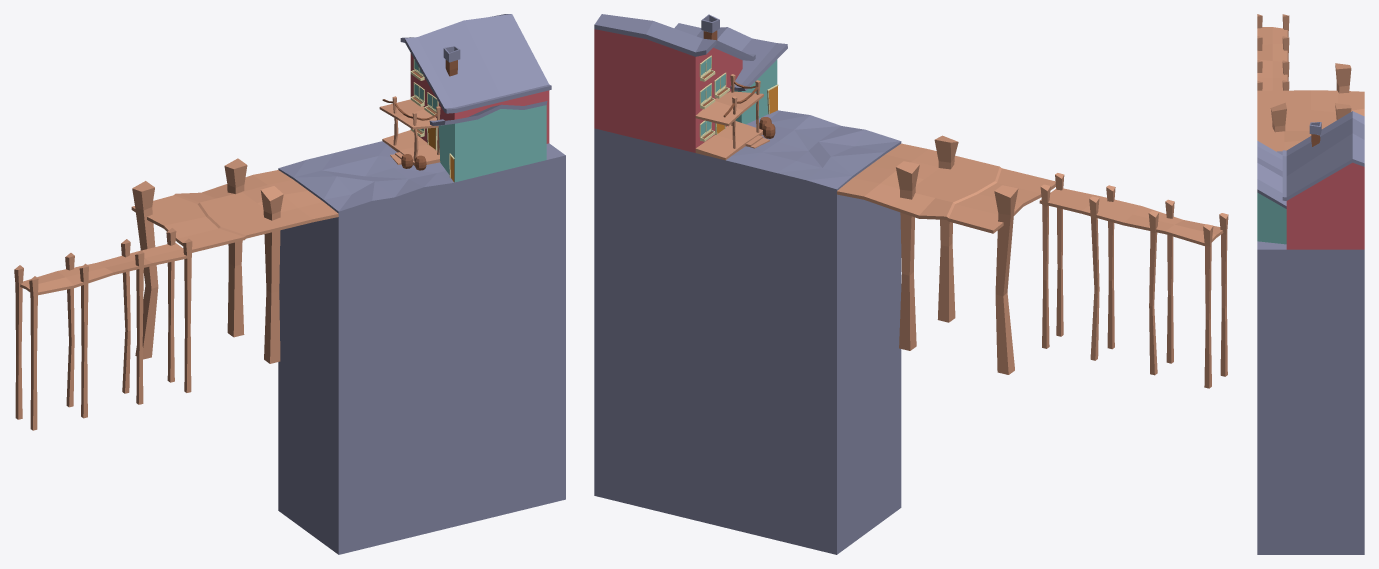
The model's file is LeftSideHarbour.fbx.
3 renders of one model, left to right at view 1: azimuth 30°, elevation 25°; view 2: azimuth 150°, elevation 25°; view 3: azimuth 270°, elevation 25°, orthographic. The views are drawn at different scales.
Parts seen in each view (by area): view 1: Harbour, HarbourWood, polySurface3, House_01, pCube12, pCube2; view 2: Harbour, HarbourWood, polySurface3, House_01, pCube12, pCube2; view 3: Harbour, polySurface3, HarbourWood, House_01.
Part boxes in pixels (x1=…): Harbour: x1=278, y1=141, x2=565, y2=554; HarbourWood: x1=14, y1=158, x2=338, y2=430; polySurface3: x1=400, y1=14, x2=551, y2=147; House_01: x1=429, y1=101, x2=547, y2=182; pCube12: x1=382, y1=130, x2=440, y2=165; pCube2: x1=379, y1=99, x2=438, y2=129; Harbour: x1=594, y1=110, x2=901, y2=554; HarbourWood: x1=837, y1=135, x2=1228, y2=388; polySurface3: x1=594, y1=14, x2=755, y2=152; House_01: x1=674, y1=23, x2=787, y2=124; pCube12: x1=695, y1=121, x2=769, y2=160; pCube2: x1=695, y1=91, x2=763, y2=126; Harbour: x1=1257, y1=151, x2=1364, y2=554; polySurface3: x1=1282, y1=111, x2=1364, y2=249; HarbourWood: x1=1257, y1=14, x2=1364, y2=151; House_01: x1=1257, y1=141, x2=1286, y2=244.
Size of the model in its own units: 50.95 by 41.19 by 10.01.
